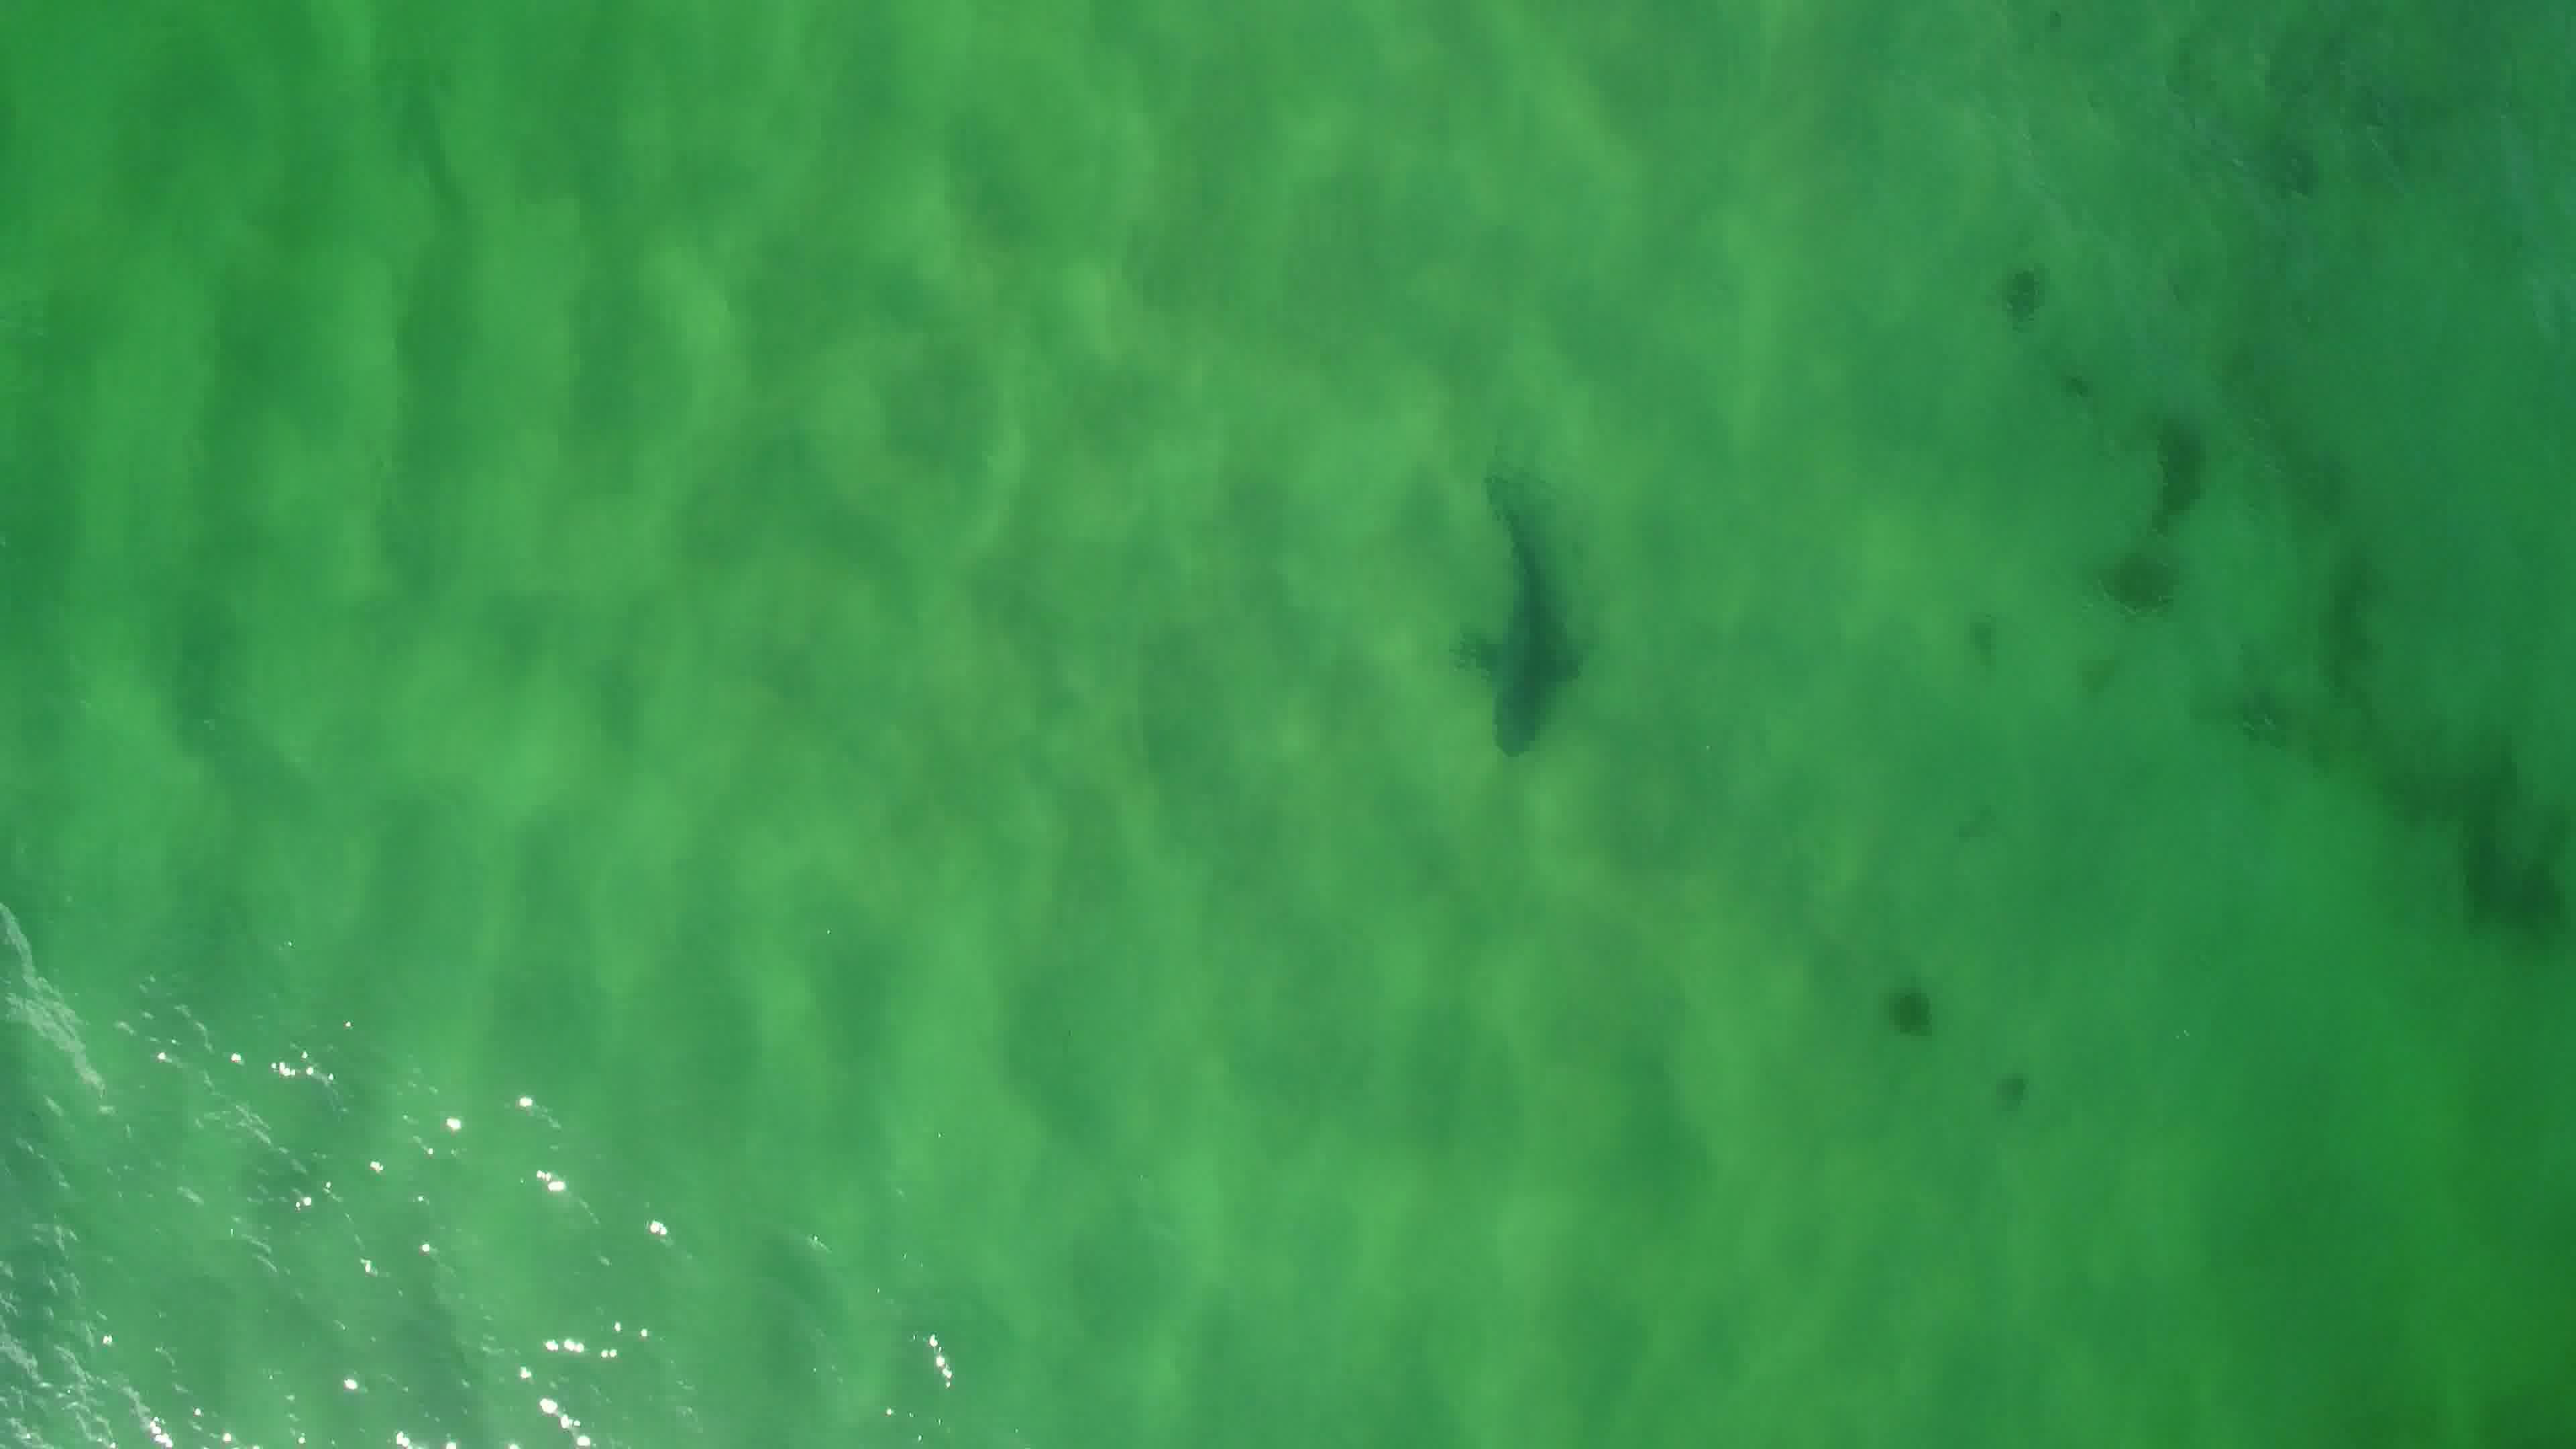shark: (1435, 460, 1598, 763)
